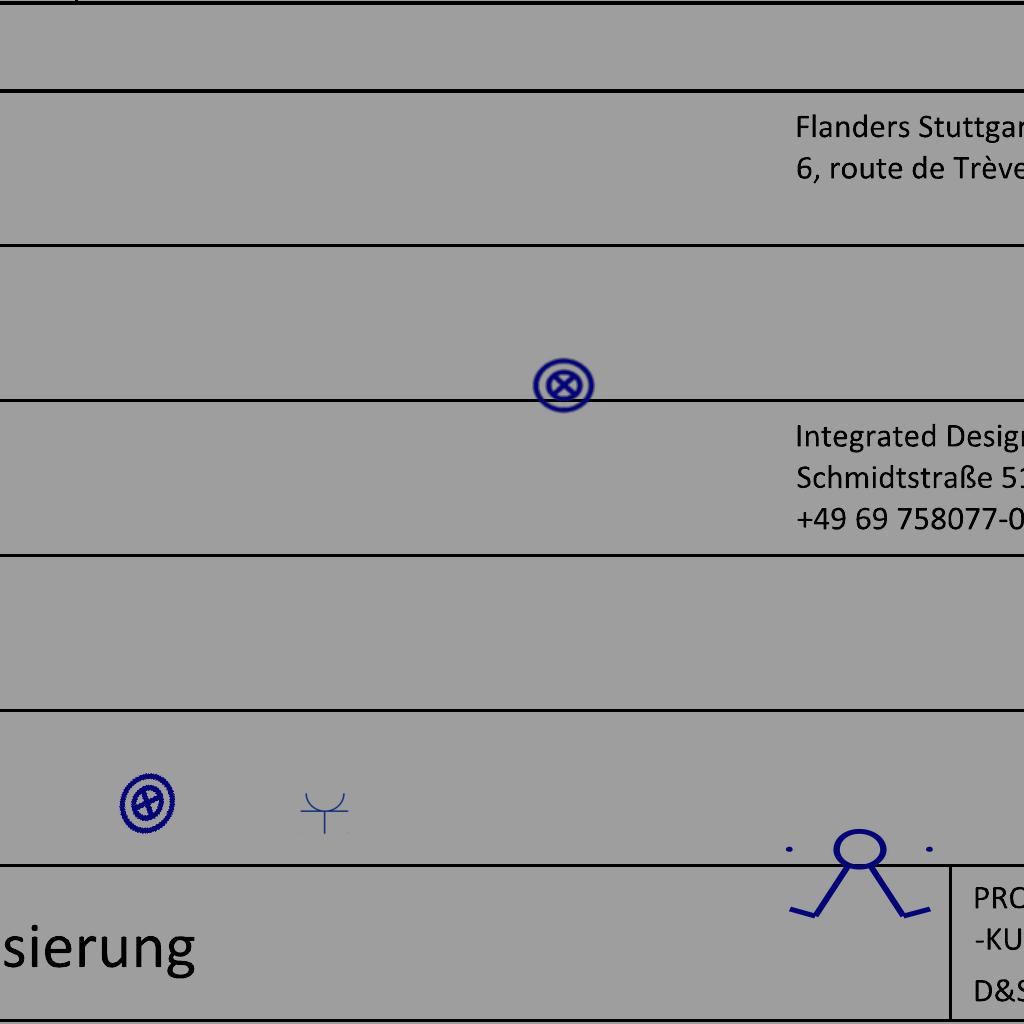Schukosteckdose_einfach: (300, 791, 350, 834)
Serienschalter: (777, 827, 945, 923)
Taster_beleuchtet: (103, 759, 191, 847), (531, 352, 597, 418)
